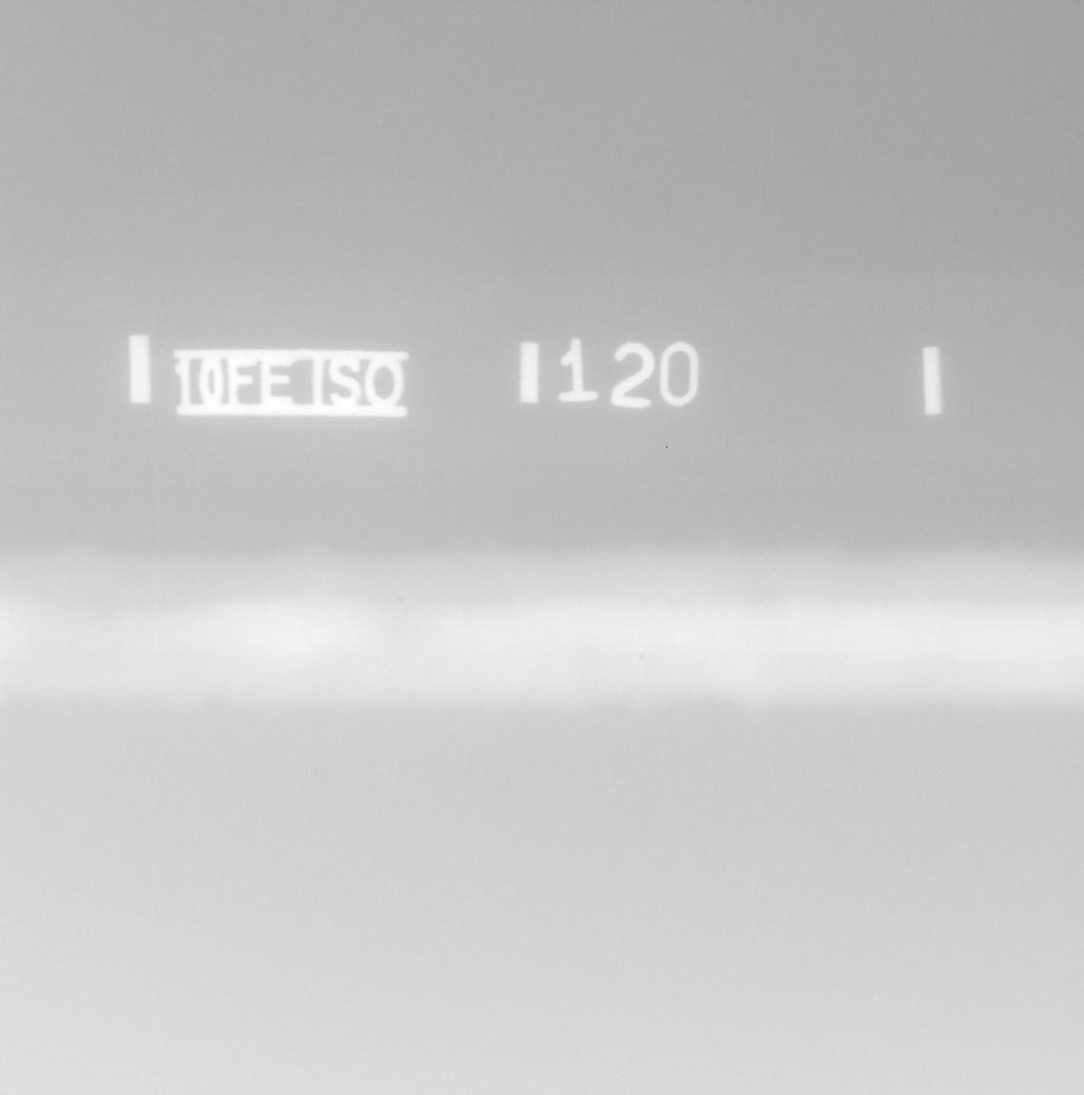Pore/Porosity: (636, 653, 647, 661), (396, 597, 405, 604), (845, 656, 850, 660)
